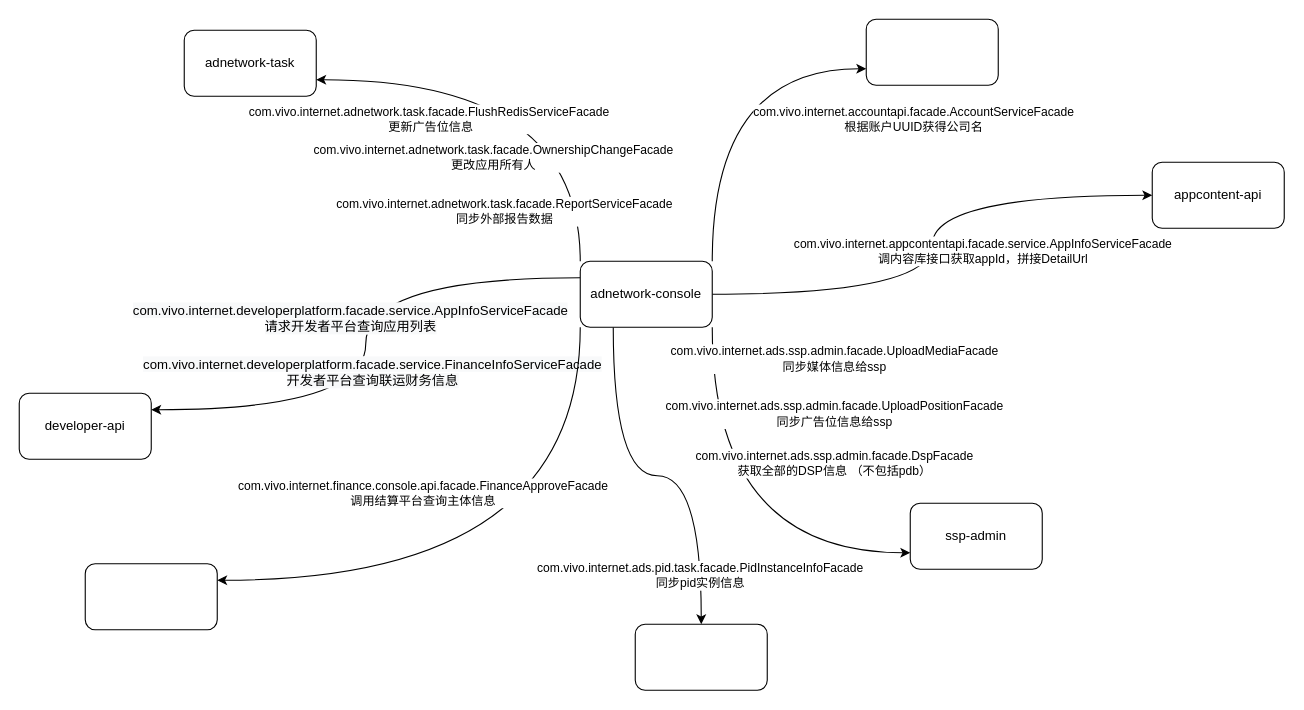
The diagram is 1304 pixels wide and 710 high, and some of its shapes have lost their labels. The box of each missing label's shape, as (x1, y1, x2, y2) in pixels:
account-api: (865, 18, 998, 85)
finance-console-api: (84, 563, 217, 630)
pid-task: (634, 623, 767, 690)
